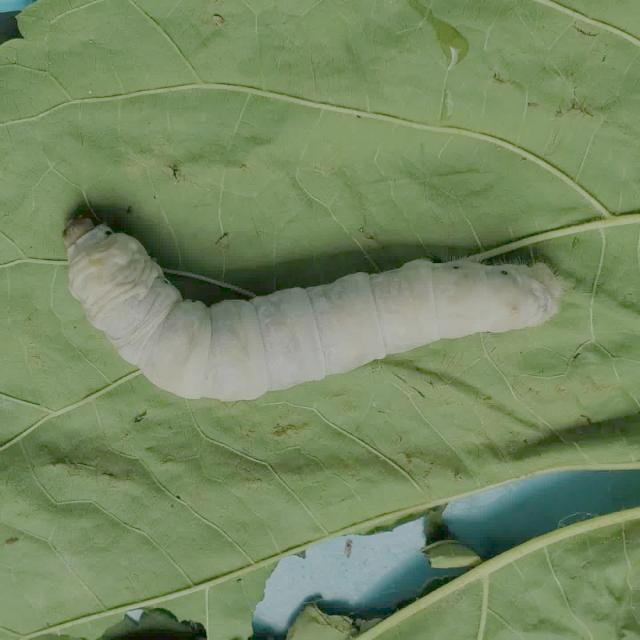Grasserie: (33, 177, 598, 437)
